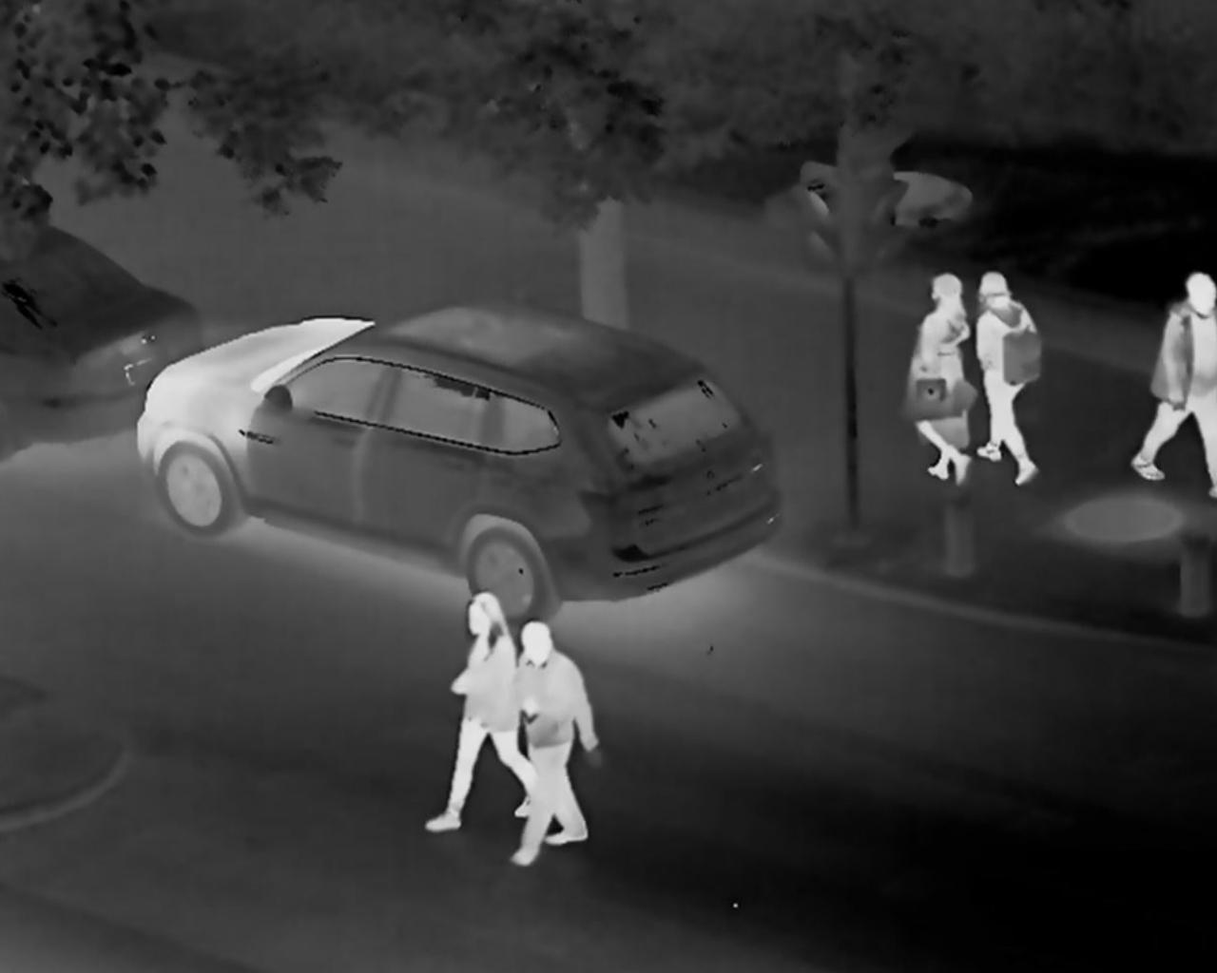person: (424, 589, 534, 830), (506, 620, 599, 867), (1130, 268, 1217, 498), (971, 262, 1040, 491), (904, 269, 974, 486)
